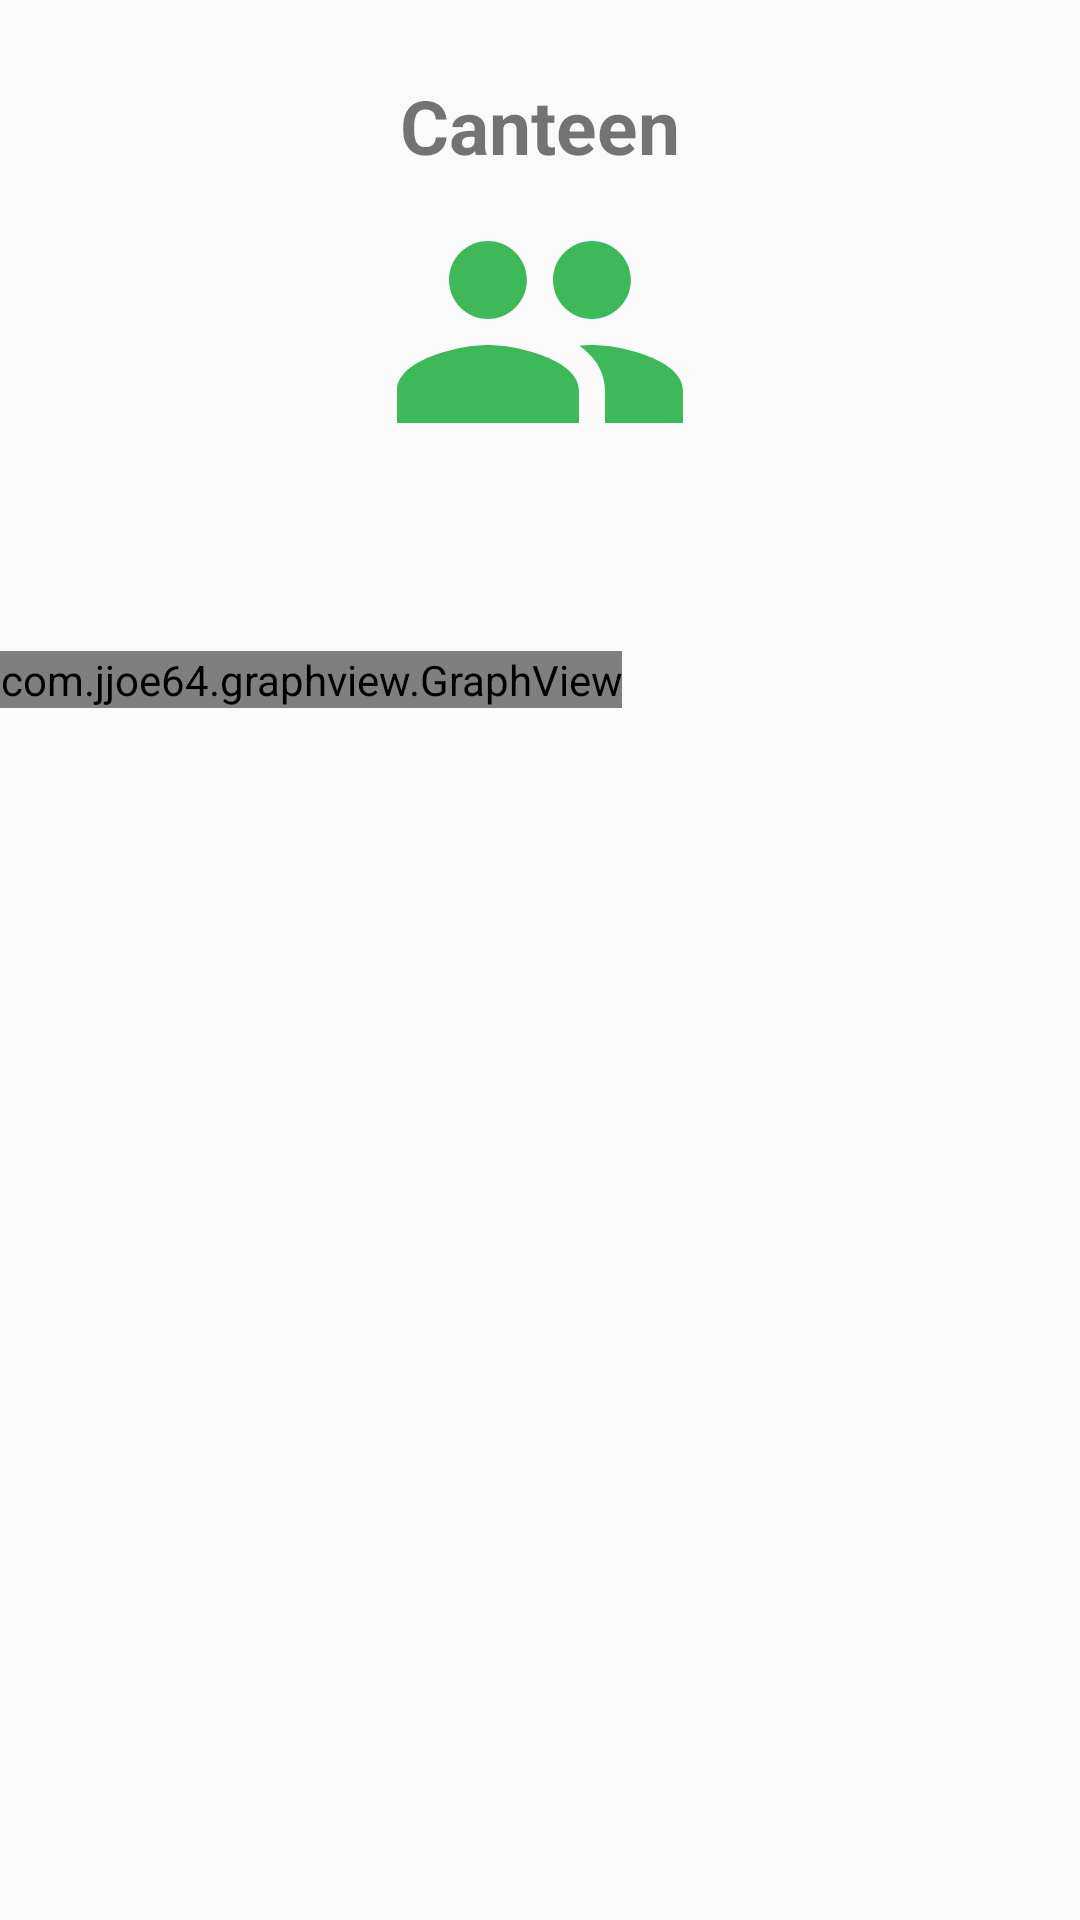

Where to tap for icons on this 1080px x 1920px app screen, as (x,y):
people: (540,332)
